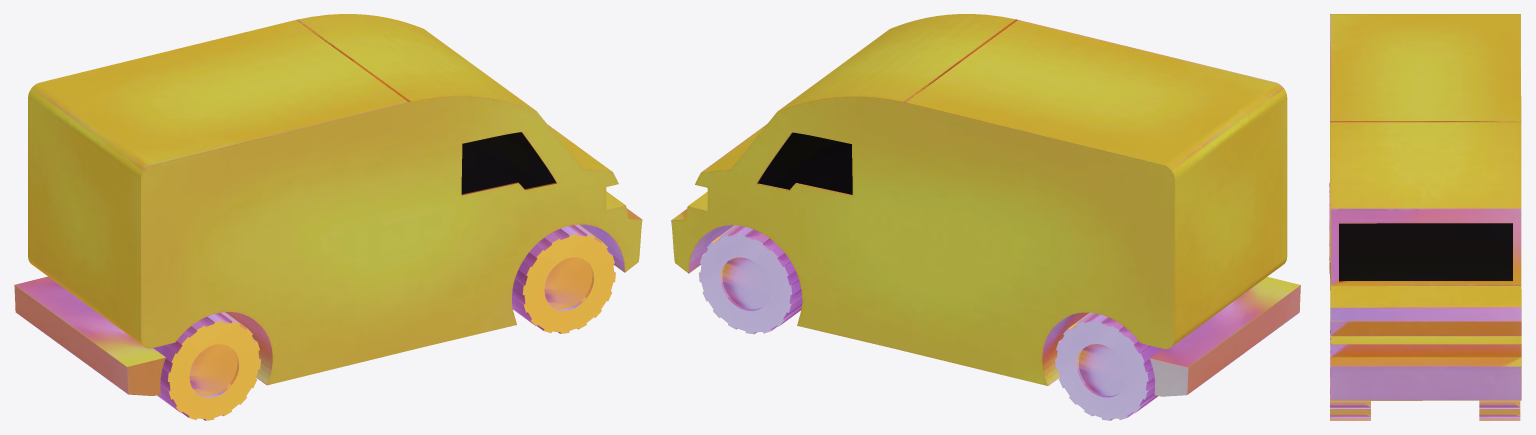
File: INCONOGRAPHY_source_v2.glb
3 renders of one model, left to right at view 1: azimuth 30°, elevation 25°; view 2: azimuth 150°, elevation 25°; view 3: azimuth 270°, elevation 25°, orthographic. The views are drawn at different scales.
Parts seen in each view (by area): view 1: van, vanWheel_1, vanWheel_1.001, van_windows_1; view 2: van, vanWheel_1.002, vanWheel_1.003, van_windows_1; view 3: van, van_windows_1, vanWheel_1, vanWheel_1.002.
Boxes of the visible parts, x1,y1,x2,y2 form: van: (14, 14, 642, 395); vanWheel_1: (512, 224, 615, 333); vanWheel_1.001: (153, 312, 260, 420); van_windows_1: (461, 132, 555, 194); van: (671, 14, 1300, 396); vanWheel_1.002: (698, 225, 802, 334); vanWheel_1.003: (1055, 312, 1161, 420); van_windows_1: (758, 132, 852, 194); van: (1330, 14, 1521, 400); van_windows_1: (1339, 223, 1512, 280); vanWheel_1: (1330, 329, 1370, 420); vanWheel_1.002: (1479, 400, 1520, 420).
Size of what is drawn, in the model's own units: 0.9976 by 0.4981 by 0.3789.
3 materials, 2 textured.
